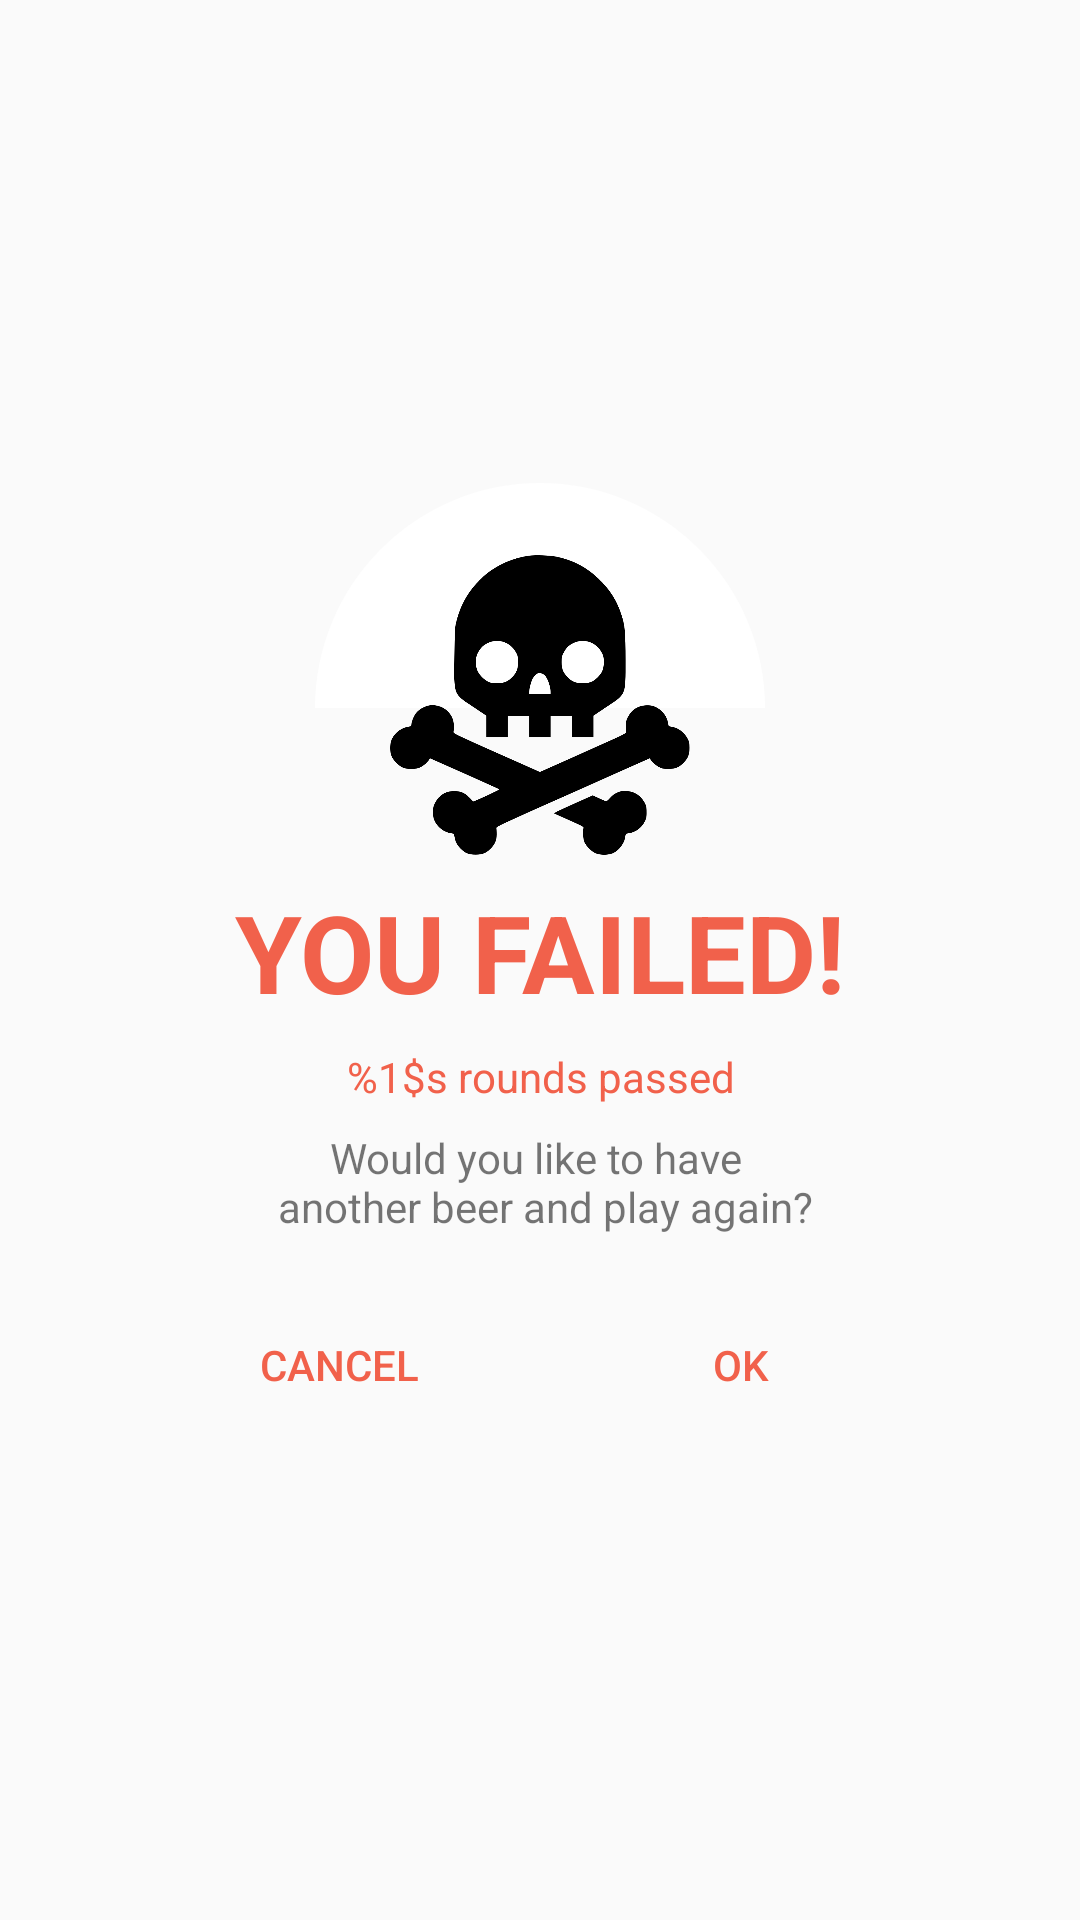

Icon bounding boxes for this 1080x1920 phone screenshot, format (x1, y1, x2, y2):
death: (390, 555, 690, 855)
